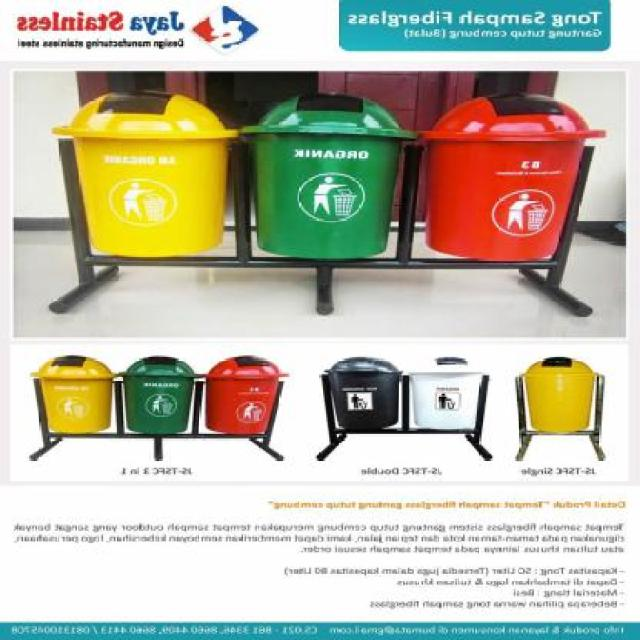garbage container: (51, 79, 252, 275), (237, 83, 425, 279), (417, 88, 606, 272), (509, 350, 606, 444), (315, 353, 402, 436)
